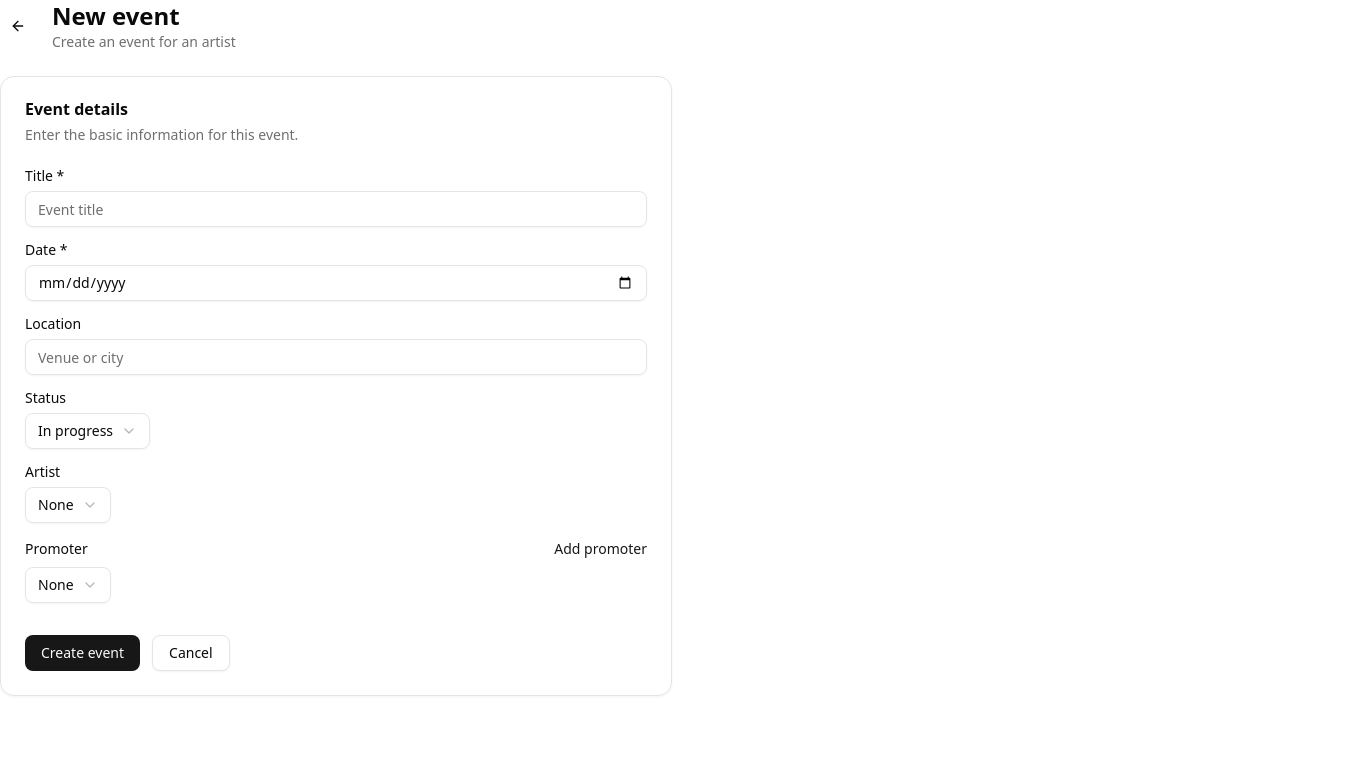
it: closes the add promoter dialog on cancel without selecting anything
The width and height of the screenshot is (1366, 768).
Later steps or results of the test are not shown.
Click the button "Add promoter" at (601, 549), box [554,539,647,559]
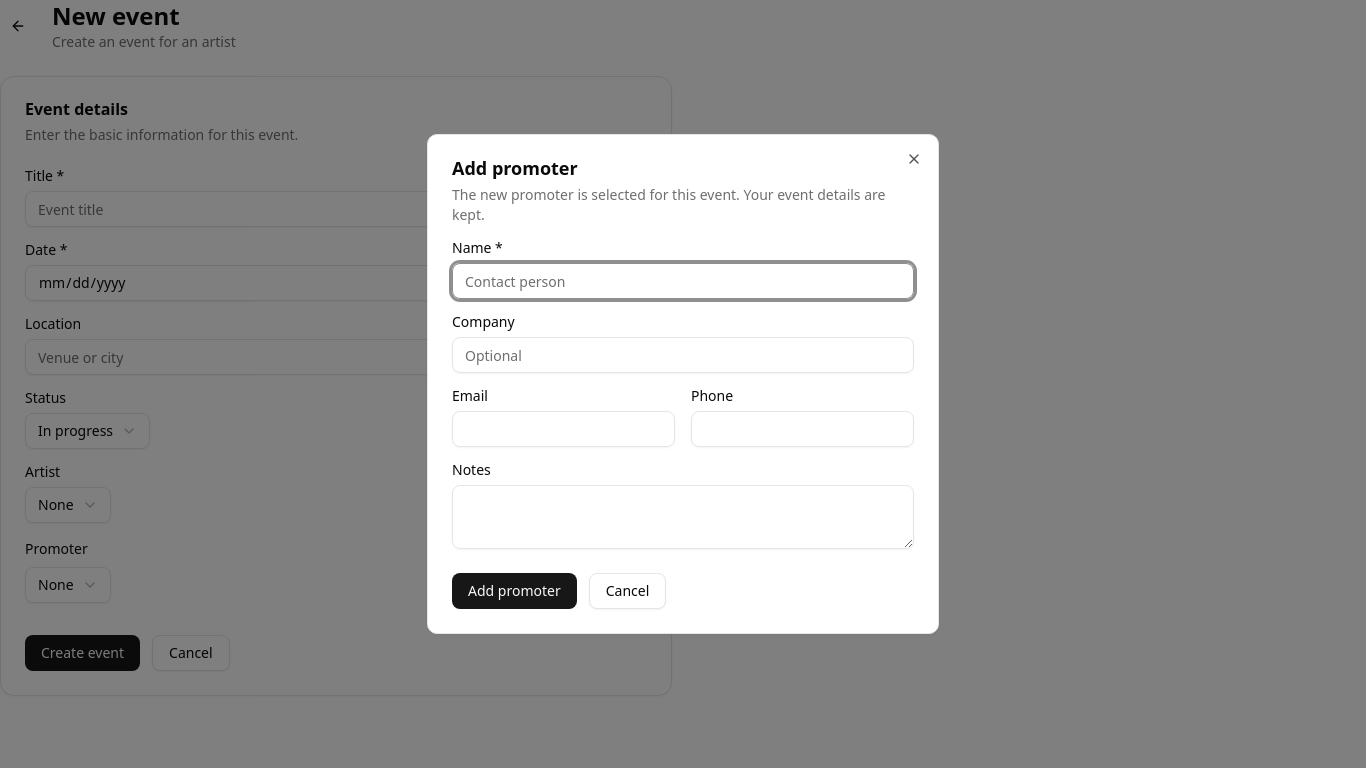
Click the button "Cancel" at (628, 591), box [589,573,666,609]
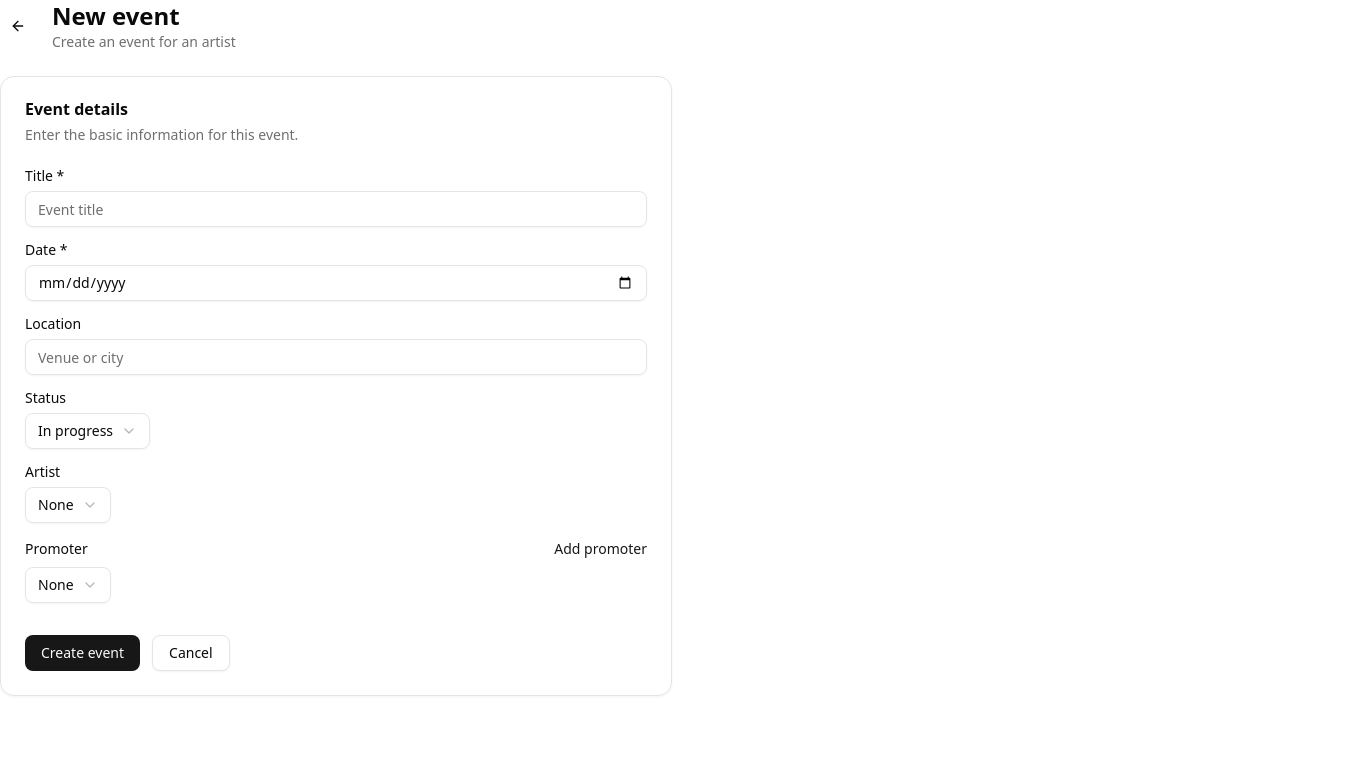
Expected: the dialog is gone
